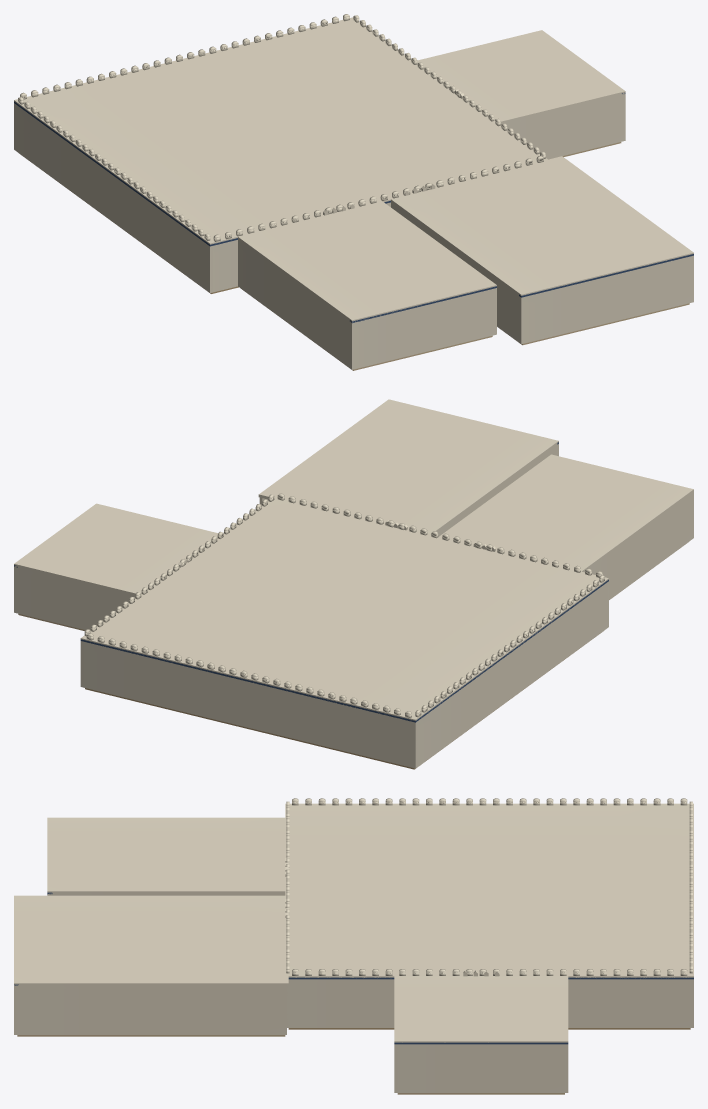
The model's file is kit.glb.
The picture shows the model from 3 angles, top to bottom: view 1: azimuth 30°, elevation 25°; view 2: azimuth 150°, elevation 25°; view 3: azimuth 270°, elevation 25°; orthographic projection. The views are drawn at different scales.
Parts seen in each view (by area): view 1: Ceiling_Courtyard, Ceiling_Archive, Ceiling_Lab, Ceiling_Help, Wall_W, Archive_N, Lab_N, Lab_W, Help_N, Archive_W, Wall_N_a; view 2: Ceiling_Courtyard, Ceiling_Archive, Ceiling_Lab, Wall_S, Ceiling_Help, Wall_W, Help_S, Lab_W, Trim_S, Floor_Courtyard, Archive_W; view 3: Ceiling_Courtyard, Ceiling_Archive, Ceiling_Lab, Archive_E, Ceiling_Help, Help_E, Wall_E_a, Wall_E_b, Trim_1, Floor_Archive, Trim_Help, Lab_E.
Boxes of the visible parts, x1,y1,x2,y2 form: Ceiling_Courtyard: [14, 17, 547, 244]; Ceiling_Archive: [391, 156, 693, 295]; Ceiling_Lab: [238, 200, 496, 322]; Ceiling_Help: [416, 30, 625, 124]; Wall_W: [14, 104, 212, 292]; Archive_N: [519, 255, 693, 344]; Lab_N: [350, 288, 496, 369]; Lab_W: [238, 240, 351, 368]; Help_N: [501, 94, 625, 159]; Archive_W: [391, 202, 520, 343]; Wall_N_a: [208, 240, 237, 292]; Ceiling_Courtyard: [80, 496, 608, 720]; Ceiling_Archive: [258, 399, 558, 534]; Ceiling_Lab: [437, 454, 693, 572]; Wall_S: [80, 641, 417, 768]; Ceiling_Help: [14, 503, 217, 595]; Wall_W: [413, 581, 608, 768]; Help_S: [14, 566, 135, 630]; Lab_W: [590, 493, 693, 599]; Trim_S: [80, 639, 415, 722]; Floor_Courtyard: [85, 631, 603, 769]; Archive_W: [438, 444, 557, 536]; Ceiling_Courtyard: [285, 803, 693, 977]; Ceiling_Archive: [14, 895, 288, 986]; Ceiling_Lab: [47, 817, 286, 894]; Archive_E: [15, 986, 286, 1034]; Ceiling_Help: [394, 975, 568, 1042]; Help_E: [396, 1044, 566, 1092]; Wall_E_a: [568, 979, 693, 1027]; Wall_E_b: [287, 979, 394, 1027]; Trim_1: [288, 977, 693, 979]; Floor_Archive: [17, 1035, 285, 1036]; Trim_Help: [394, 1042, 568, 1044]; Lab_E: [49, 894, 285, 895].
Bounding box in the file's own units: 33.6 × 3.97 × 40.6.
18 materials, 5 textured.
